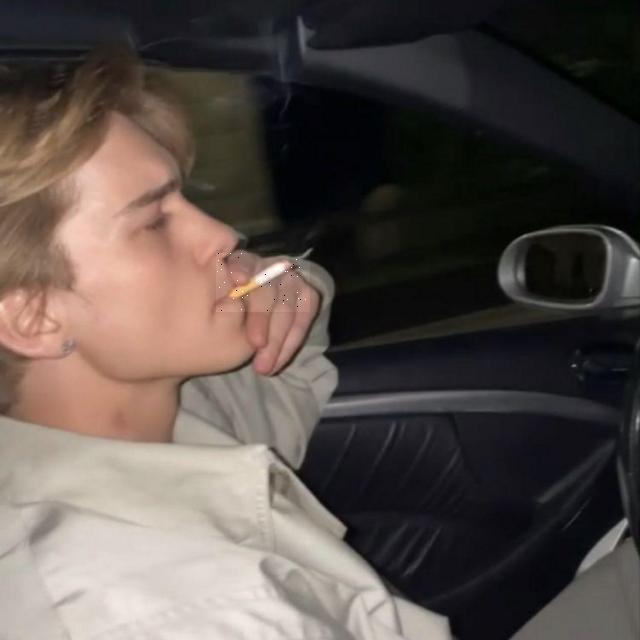smoking: (216, 253, 310, 312)
